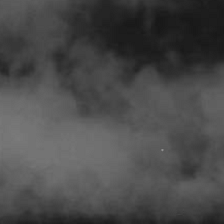Target: (159, 146, 165, 152)
